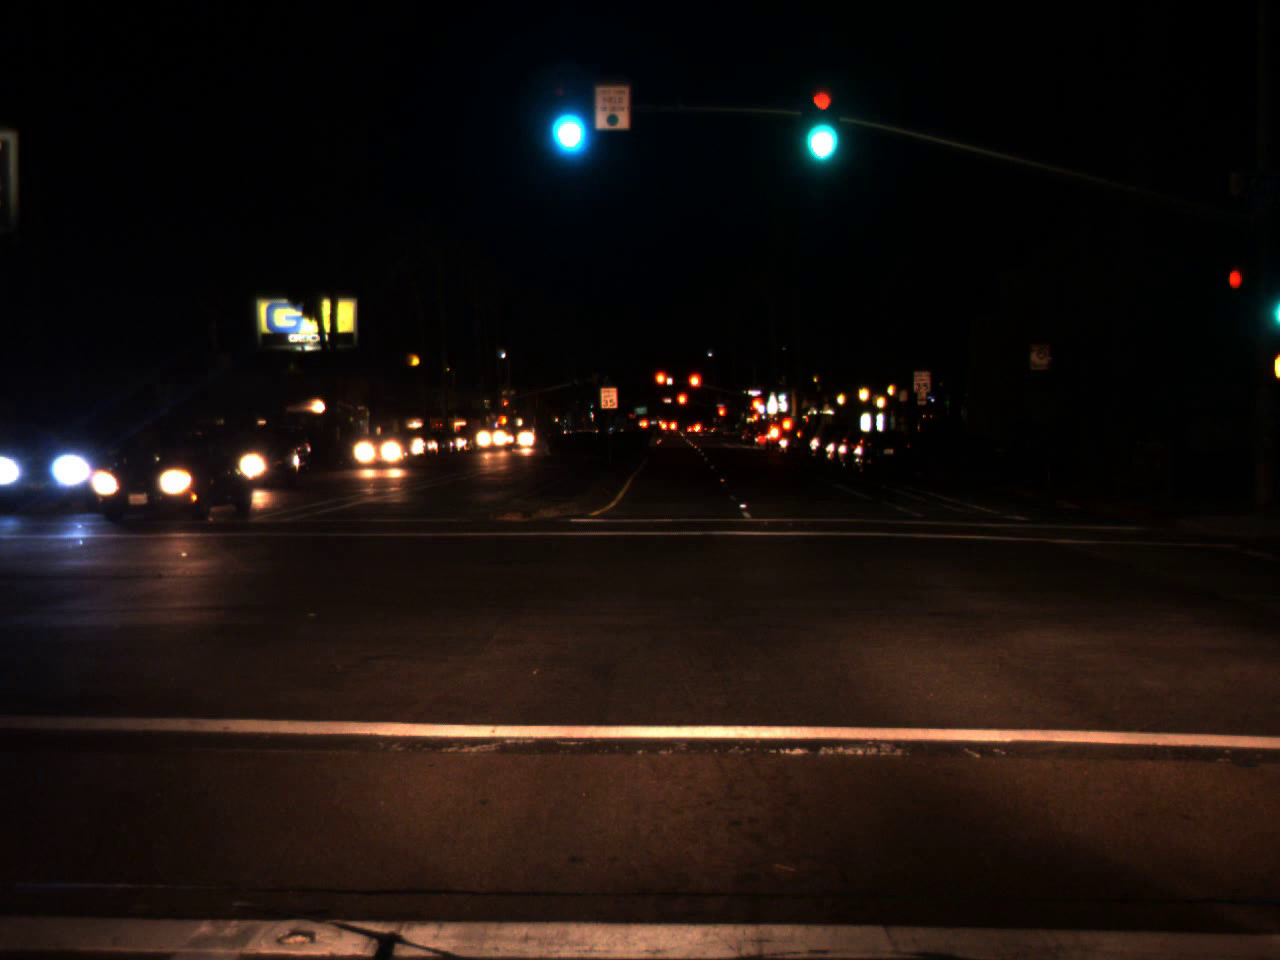go: (801, 95, 837, 167), (547, 91, 586, 157)
stop: (653, 369, 671, 401), (686, 372, 702, 401), (674, 391, 689, 418), (749, 396, 764, 412), (717, 406, 726, 427), (503, 398, 509, 414)
